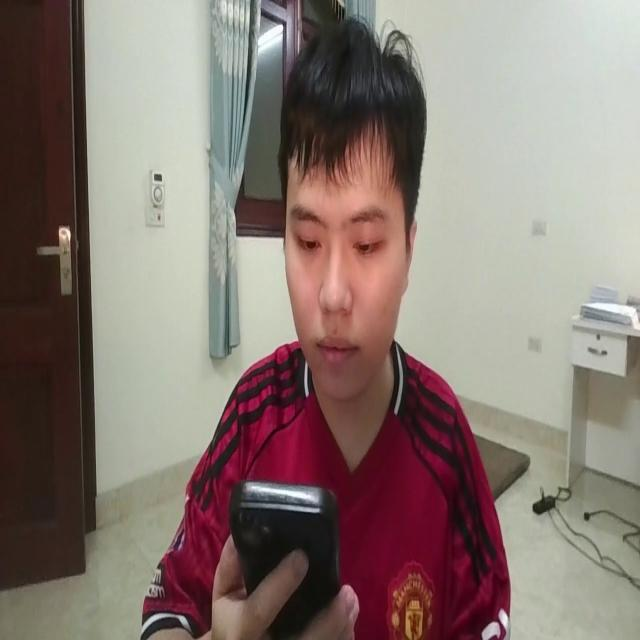phone: (230, 469, 342, 634)
student: (141, 14, 514, 640)
